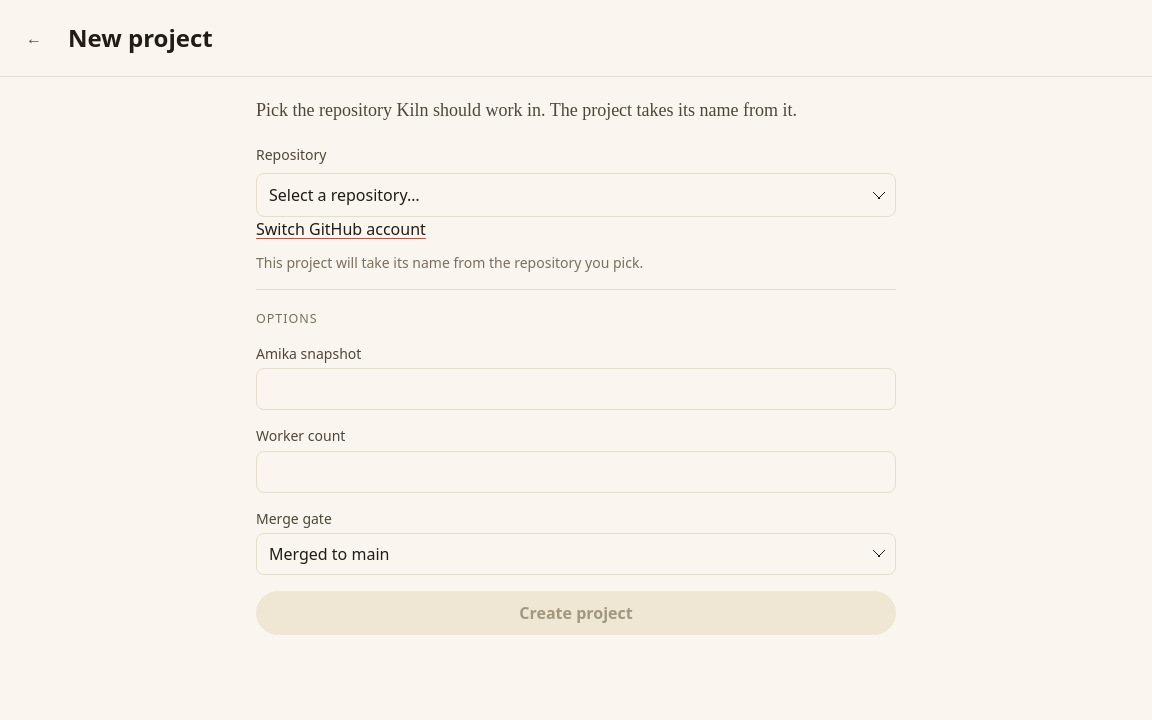
ProjectsManager › the create step replaces the list, and cancelling gives it back
Expected: the heading "New project" is shown, [68,23,213,53]
Expected: the button "Add project" is not shown
Click the button named "Cancel new project": coordinates (34, 38) [12,16,56,60]
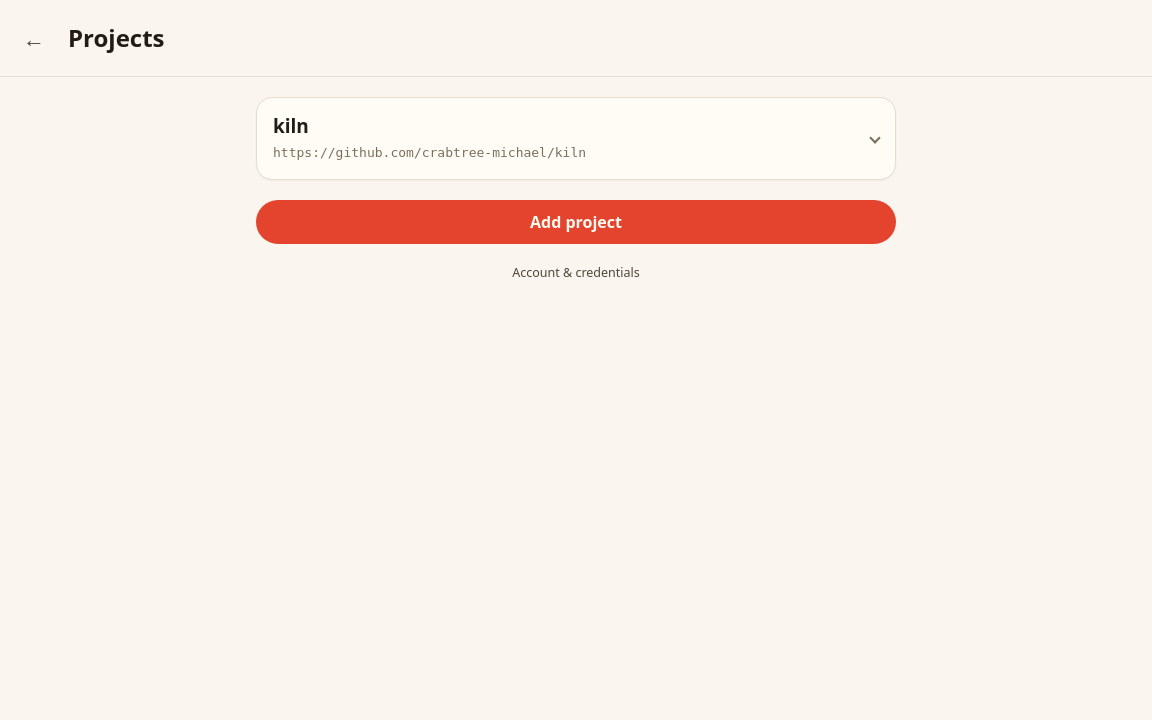
Expected: the link named "Back to the app" is shown, [23,23,45,53]
Expected: the heading "Projects" is shown, [68,23,164,53]
